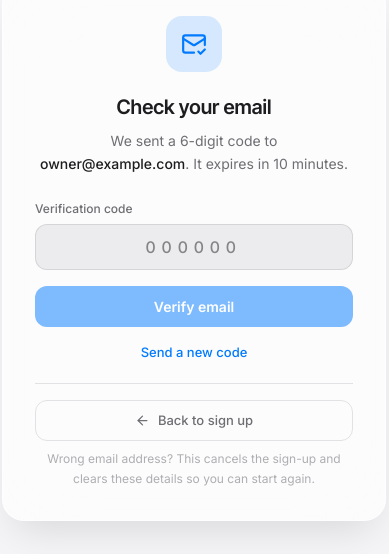
it: VerifyEmail › keeps submit disabled until six digits are entered
Expected: the button "Verify email" is disabled, [35,286,353,326]
Step 1. Type "123456" into the field labelled "Verification code" → (194, 246), box [35,224,353,270]
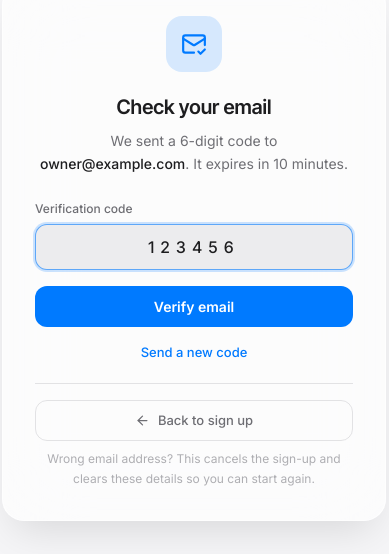
Expected: the button "Verify email" is enabled, [35,286,353,326]
